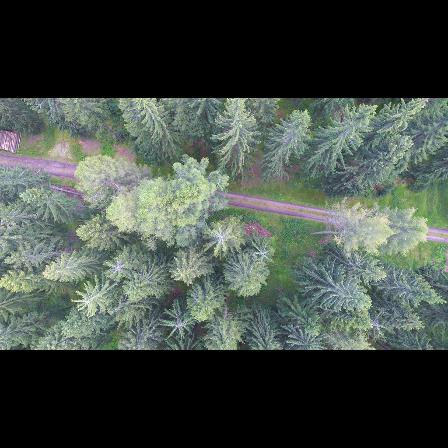Sick: (205, 222, 237, 255), (161, 312, 199, 339), (101, 251, 133, 281), (250, 239, 282, 268)
